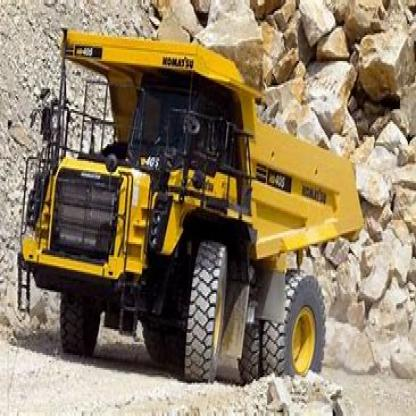dump_truck: (18, 24, 362, 379)
